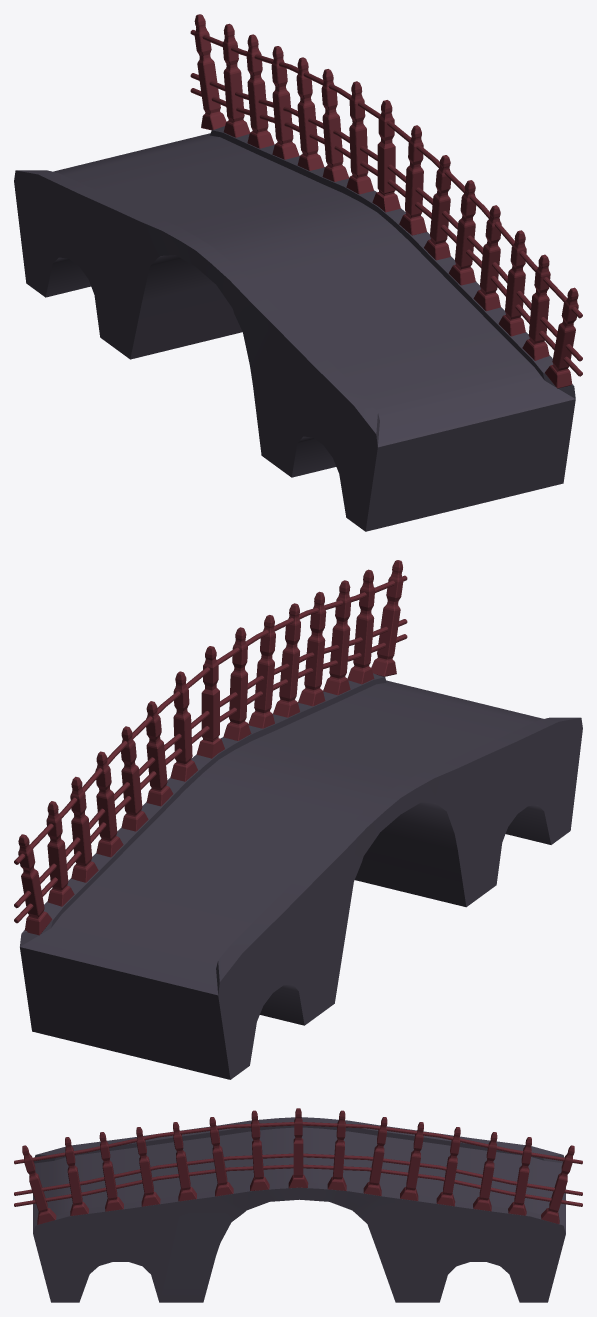
The model's file is Brug.glb.
The picture shows the model from 3 angles, top to bottom: view 1: azimuth 30°, elevation 25°; view 2: azimuth 150°, elevation 25°; view 3: azimuth 270°, elevation 25°; orthographic projection. The views are drawn at different scales.
Visible parts, largest first — view 1: Cylinder.010, Cube.021, Cube.014; view 2: Cylinder.010, Cube.021, Cube.014; view 3: Cylinder.010, Cube.021, Cube.014.
Boxes of the visible parts, x1,y1,x2,y2 form: Cylinder.010: (14, 126, 575, 531); Cube.021: (190, 14, 582, 388); Cube.014: (372, 100, 400, 212); Cylinder.010: (20, 673, 582, 1079); Cube.021: (14, 560, 407, 935); Cube.014: (196, 646, 224, 758); Cylinder.010: (33, 1117, 565, 1302); Cube.021: (14, 1110, 582, 1224); Cube.014: (288, 1108, 308, 1188).
Size of the model in its own units: 3.31 by 4.17 by 11.27.
